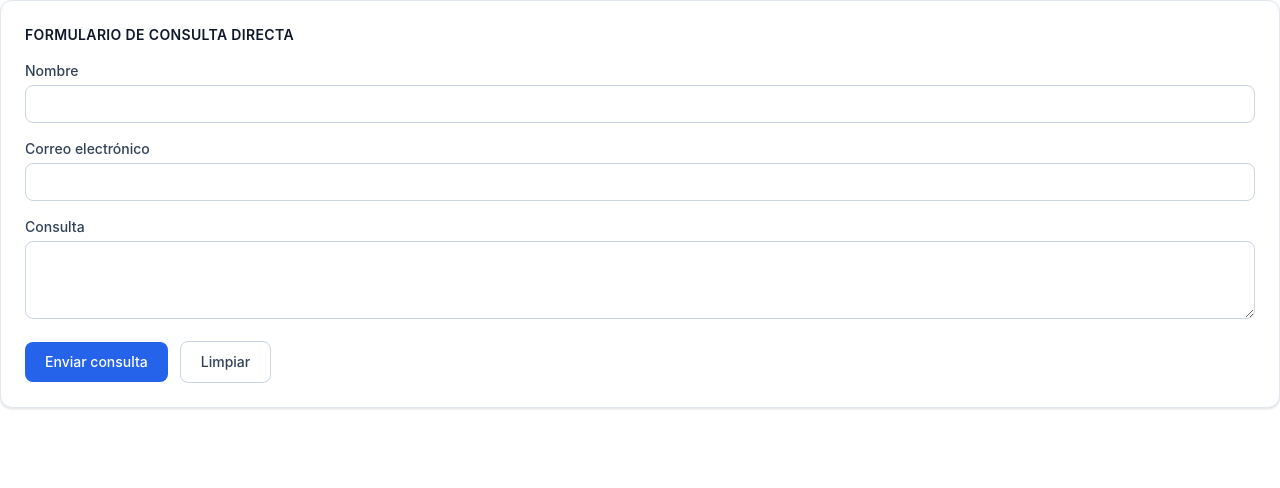
Test case: FormularioConsulta › confirma el registro cuando los campos son válidos
Type "Ana" into the field labelled "Nombre" at (640, 104), box [25, 85, 1255, 123]
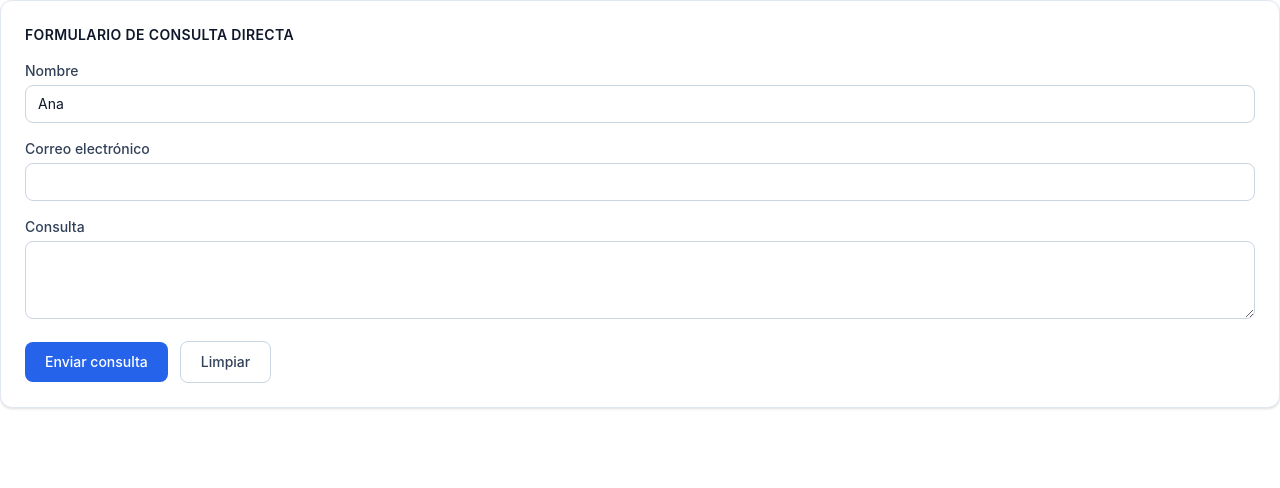
Type "ana@example.com" into the field labelled "Correo electrónico" at (640, 182), box [25, 163, 1255, 201]
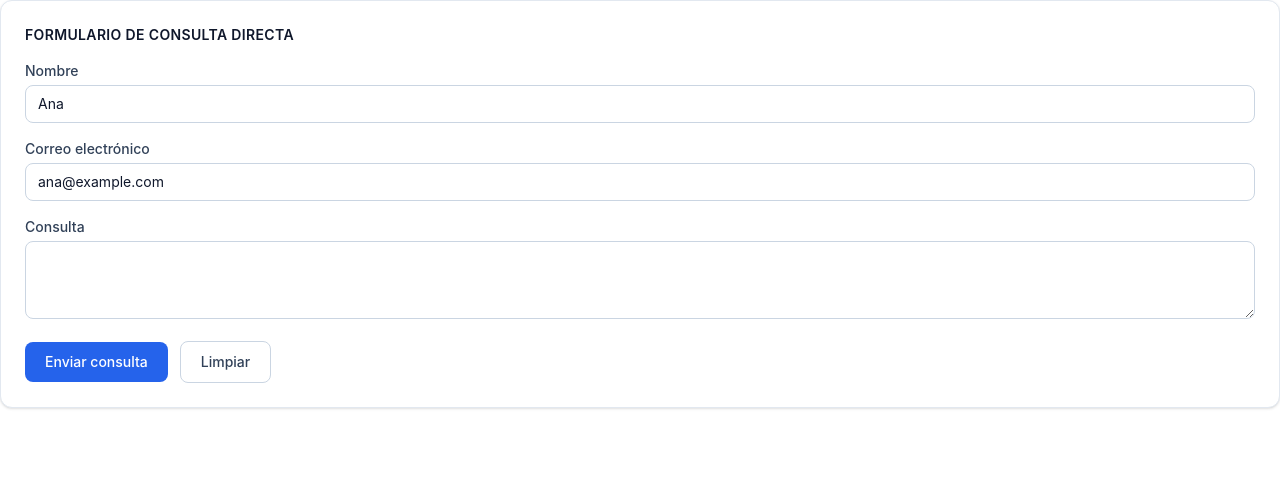
Type "¿Cuándo abre la inscripción?" into the text box labelled "Consulta" at (640, 280), box [25, 241, 1255, 319]
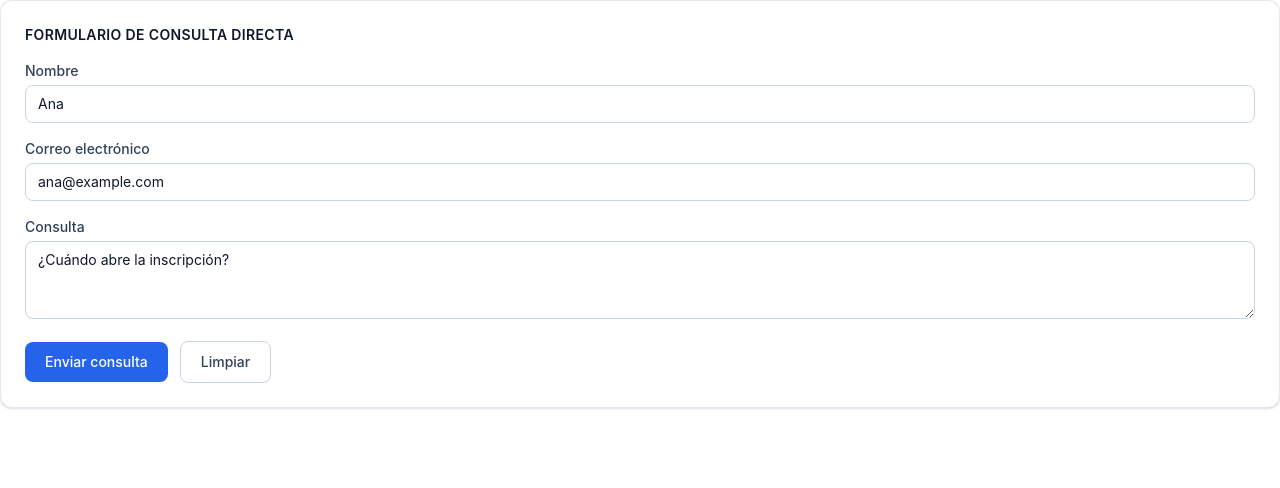
Click the button "Enviar consulta" at (96, 362), box [25, 342, 168, 382]
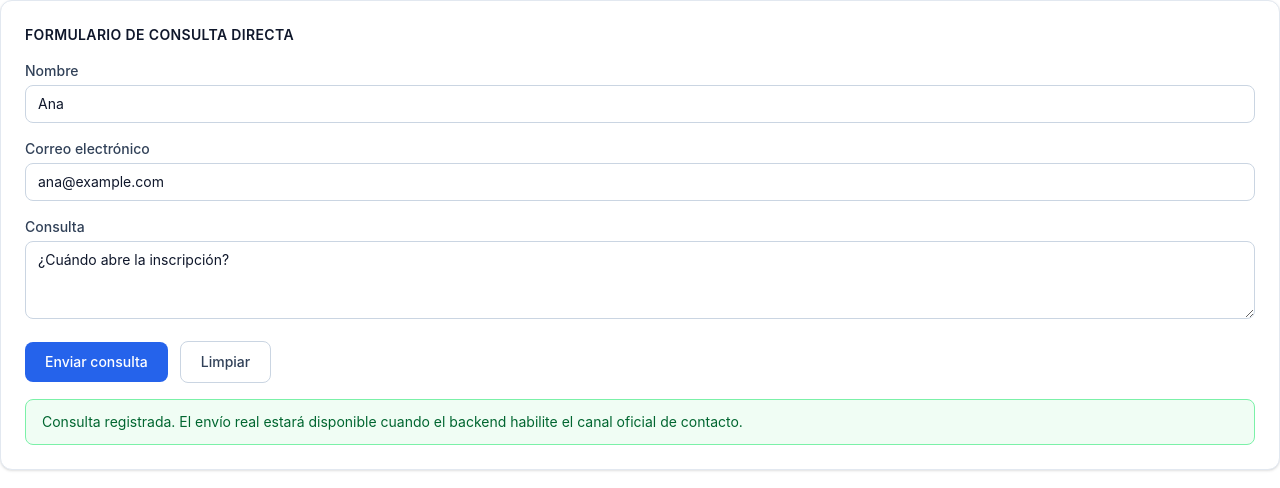
Check: the text "Consulta registrada" is shown, box [42, 413, 743, 430]
